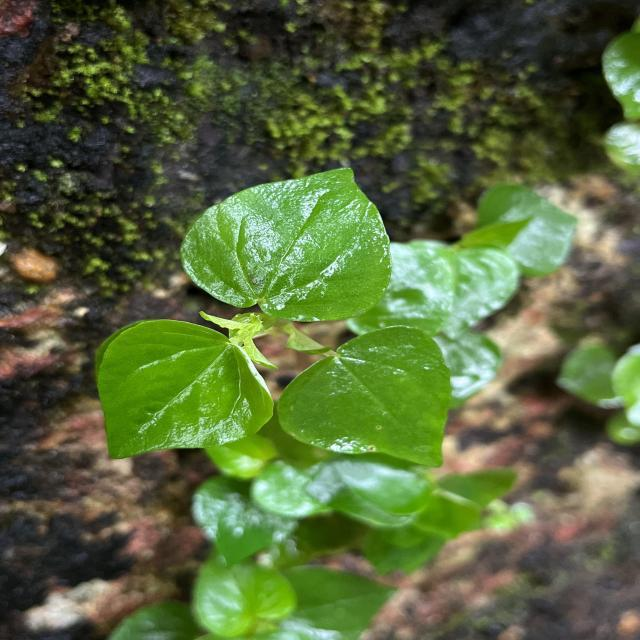Peperomia pellucida: (177, 164, 396, 324), (92, 316, 278, 462)
